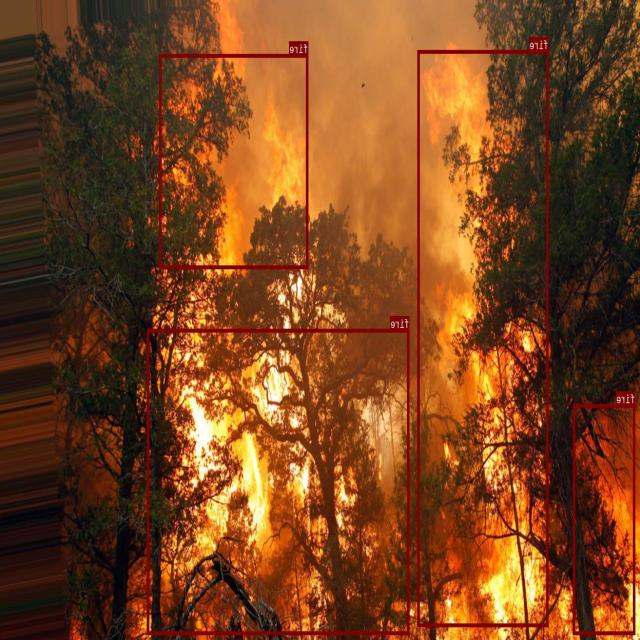fire: (148, 328, 410, 634), (418, 49, 549, 626), (160, 54, 309, 268), (574, 404, 636, 634)
